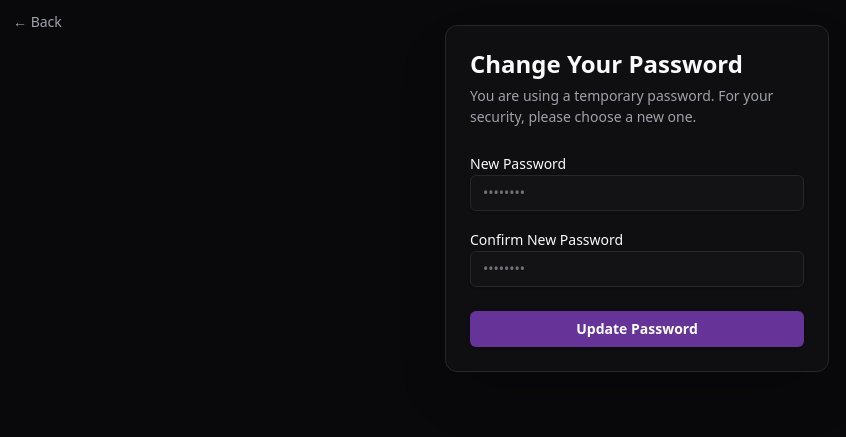
Scenario: ChangePasswordPage › traduz o código de erro da API em vez de mostrá-lo cru
In the password field labelled "New Password": (637, 193) [470,175,804,211], type "new-password"
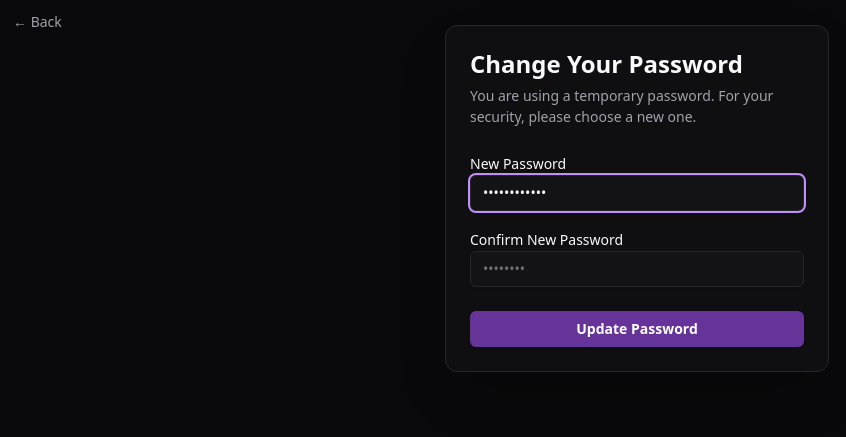
In the password field labelled "Confirm New Password": (637, 269) [470,251,804,287], type "new-password"
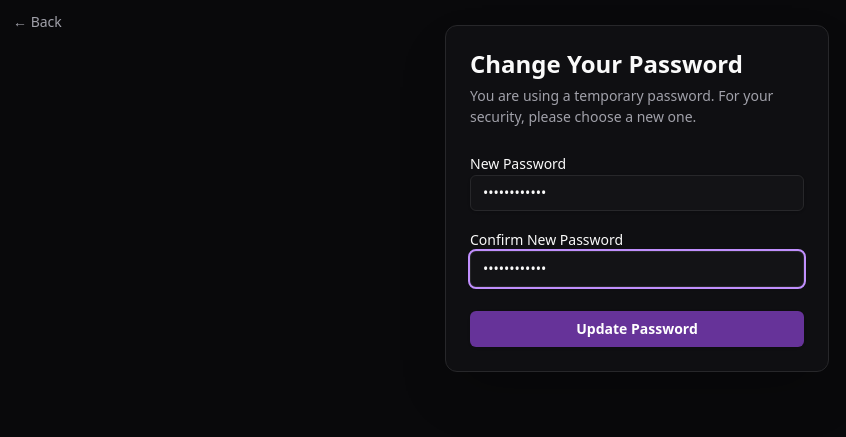
Click the button "Update Password": (637, 329) [470,311,804,347]
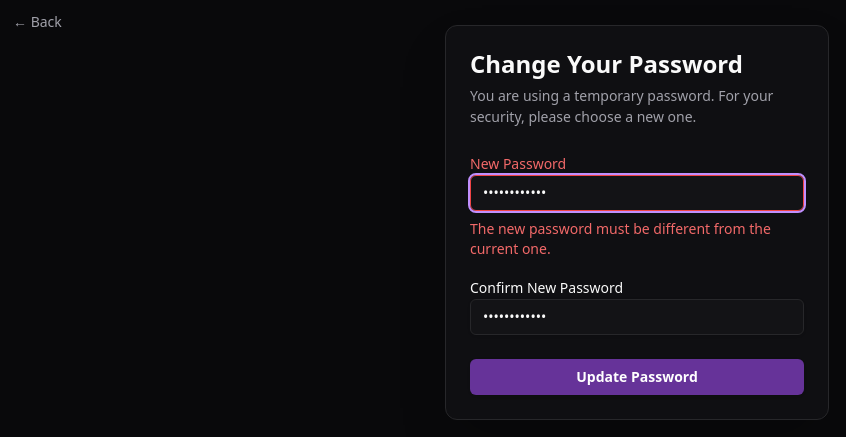
Now the text "The new password must be different from the current one." is shown, box [470,219,804,259]
